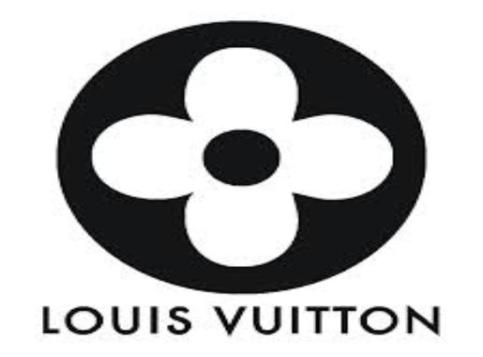LOUIS-VUITTON: (28, 299, 464, 351)
